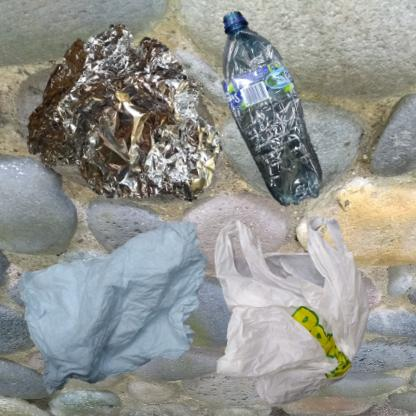aluminio: (10, 10, 233, 229)
bolsa: (213, 213, 372, 409)
botella: (213, 10, 335, 213)
papel: (10, 213, 246, 409)
